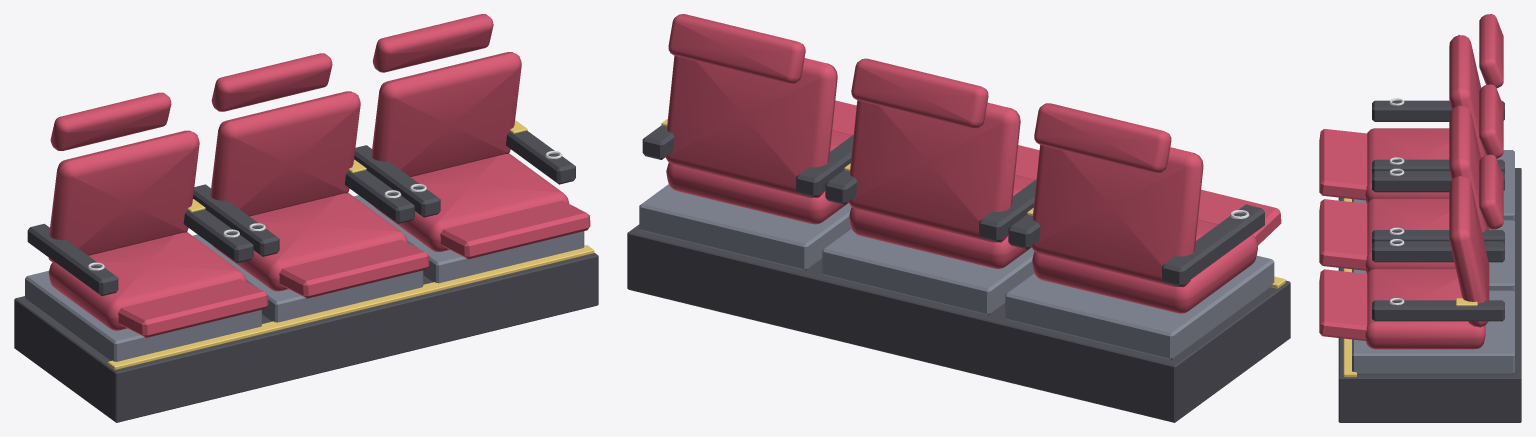
Rendered from cinema-multiplex-and-foyer-premium-recliner-row-d1383e97__34651.glb.
3 views of the same model, side by side, from view 1: azimuth 30°, elevation 25°; view 2: azimuth 150°, elevation 25°; view 3: azimuth 270°, elevation 25° (orthographic). The views are drawn at different scales.
Parts seen in each view (by area): view 1: premium-recliner-row; view 2: premium-recliner-row; view 3: premium-recliner-row.
Boxes of the visible parts, bbox=[...] form: premium-recliner-row: bbox=[14, 14, 598, 422]; premium-recliner-row: bbox=[627, 14, 1290, 422]; premium-recliner-row: bbox=[1319, 14, 1521, 422].
Bounding box in the file's own units: 3 × 1.4 × 1.22.
